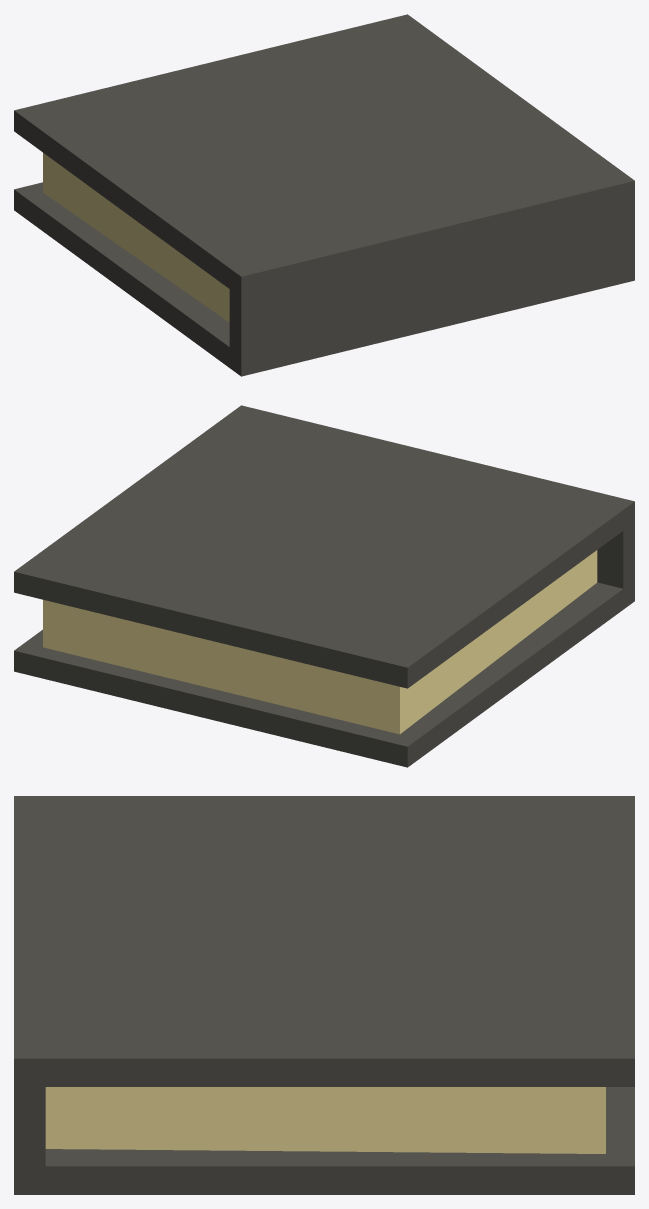
File: book-grey.fbx
The picture shows the model from 3 angles, top to bottom: view 1: azimuth 30°, elevation 25°; view 2: azimuth 150°, elevation 25°; view 3: azimuth 270°, elevation 25°; orthographic projection. The views are drawn at different scales.
Parts seen in each view (by area): view 1: Cube.005; view 2: Cube.005; view 3: Cube.005.
Part boxes in pixels (x1,y1,x2,y2): Cube.005: (14, 14, 634, 376); Cube.005: (14, 405, 634, 767); Cube.005: (14, 796, 634, 1194).
Size of the model in its own units: 200 by 48.48 by 200.
